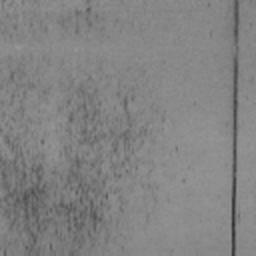Scratches: (230, 0, 238, 256)
